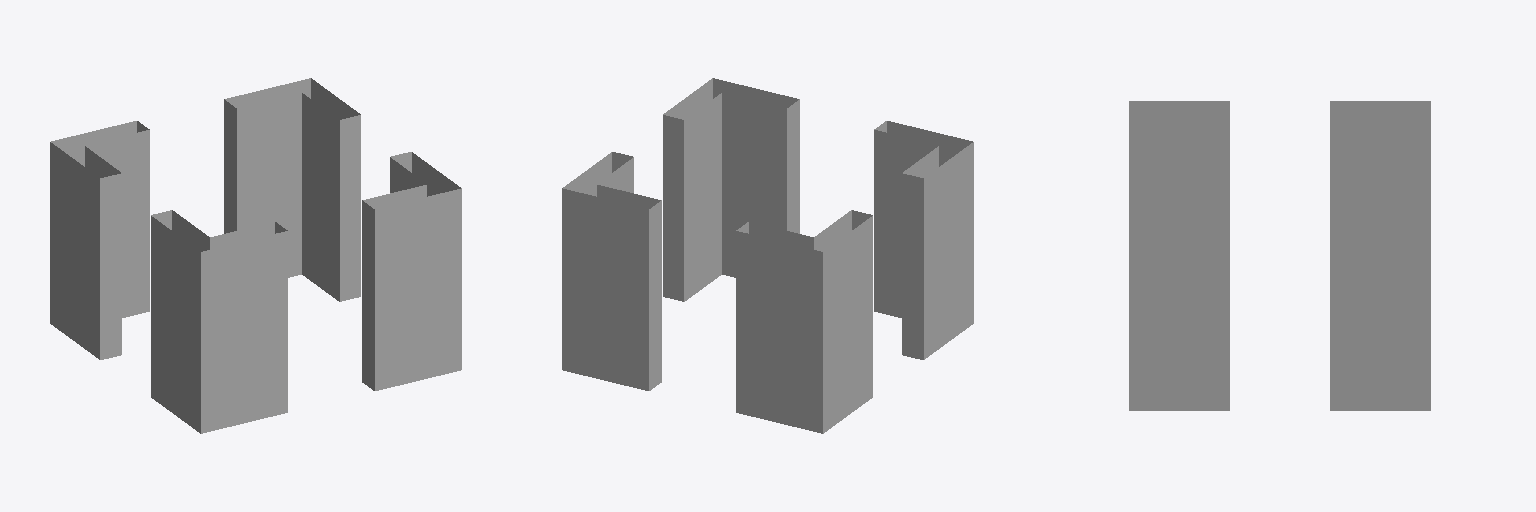
The model's file is rift_mover_connector.obj.
3 views of the same model, side by side, from view 1: azimuth 30°, elevation 25°; view 2: azimuth 150°, elevation 25°; view 3: azimuth 270°, elevation 25° (orthographic).
Visible parts, largest first — view 1: Cube.002_Cube.003, Cube.001_Cube.007, Cube.000_Cube.005, Cube.003_Cube.008; view 2: Cube.000_Cube.005, Cube.003_Cube.008, Cube.001_Cube.007, Cube.002_Cube.003; view 3: Cube.001_Cube.007, Cube.003_Cube.008, Cube.000_Cube.005, Cube.002_Cube.003.
Part boxes in pixels (left/top/right/bottom): Cube.002_Cube.003: left=151, top=210, right=287, bottom=433; Cube.001_Cube.007: left=224, top=78, right=360, bottom=301; Cube.000_Cube.005: left=50, top=121, right=149, bottom=359; Cube.003_Cube.008: left=362, top=152, right=461, bottom=390; Cube.000_Cube.005: left=736, top=210, right=872, bottom=433; Cube.003_Cube.008: left=663, top=78, right=799, bottom=301; Cube.001_Cube.007: left=562, top=152, right=661, bottom=390; Cube.002_Cube.003: left=874, top=121, right=973, bottom=359; Cube.001_Cube.007: left=1330, top=186, right=1430, bottom=410; Cube.003_Cube.008: left=1129, top=186, right=1229, bottom=410; Cube.000_Cube.005: left=1330, top=101, right=1430, bottom=217; Cube.002_Cube.003: left=1129, top=101, right=1229, bottom=217.
Size of the model in its own units: 0.75 by 0.5 by 0.75.